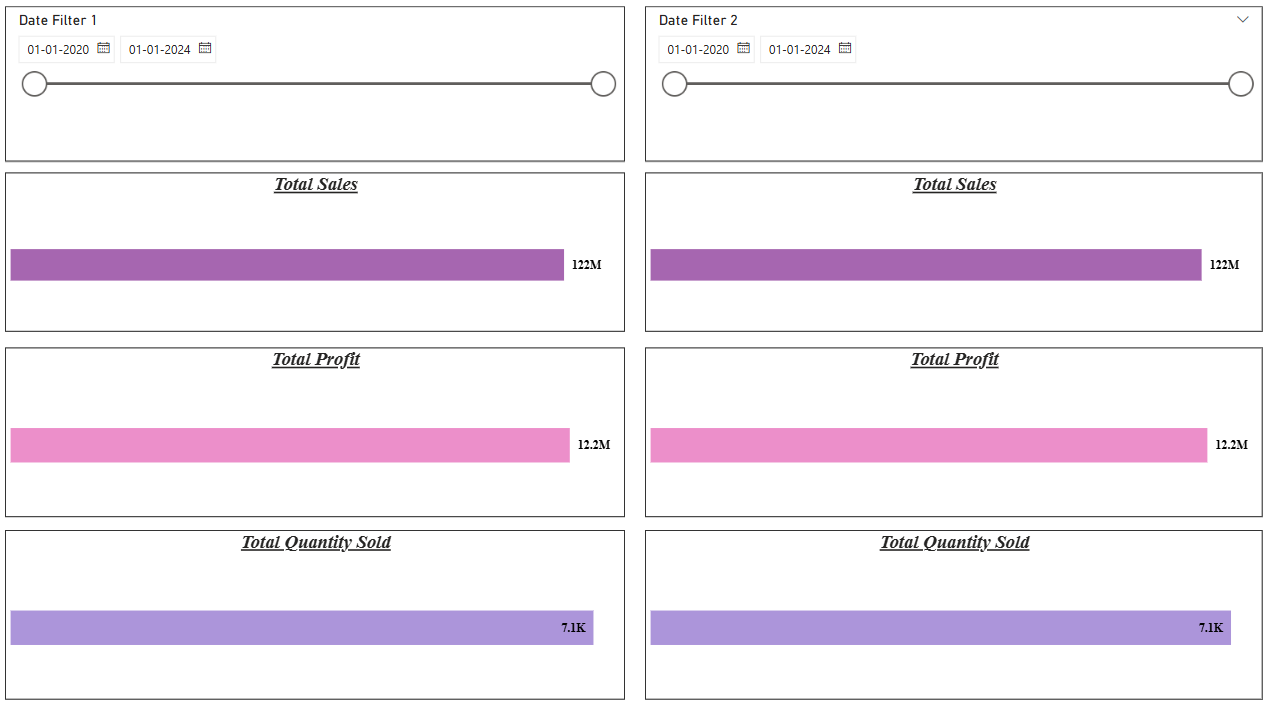

Layout of this report page (visuals, bound fields, positions):
{"tool":"powerbi","page":{"name":"Edit Interaction","canvas":[1280,720],"ordinal":3},"visuals":[{"type":"slicer","fields":{"Values":["Fact Table.Date (dd/mm/yyyy)"]},"box":[9.8,15.9,620,155.3],"z":0},{"type":"slicer","fields":{"Values":["Fact Table.Date (dd/mm/yyyy)"]},"box":[650.5,15.9,617.5,155.3],"z":1000},{"type":"barChart","title":"Total Sales","fields":{"Y":["Sum(Fact Table.Net Sales)"]},"box":[9.8,182.2,620,159],"z":2000},{"type":"barChart","title":"Total Profit","fields":{"Y":["Sum(Fact Table.Profit)"]},"box":[9.8,357.1,620,170],"z":3000},{"type":"barChart","title":"Total Quantity Sold","fields":{"Y":["Sum(Fact Table.Units Sold)"]},"box":[9.8,540.5,620,170],"z":4000},{"type":"barChart","title":"Total Sales","fields":{"Y":["Sum(Fact Table.Net Sales)"]},"box":[650.5,182.2,617.5,159],"z":5000},{"type":"barChart","title":"Total Profit","fields":{"Y":["Sum(Fact Table.Profit)"]},"box":[650.5,357.1,617.5,170],"z":6000},{"type":"barChart","title":"Total Quantity Sold","fields":{"Y":["Sum(Fact Table.Units Sold)"]},"box":[650.5,540.5,617.5,170],"z":7000}]}

Visuals, with their boxes in screenshot pixels (x1, y1, x2, y2), scaled from the page's 1280x720 canvas onto the 1267x706 screenshot:
slicer - Fact Table.Date (dd/mm/yyyy): 10,16,623,168
slicer - Fact Table.Date (dd/mm/yyyy): 644,16,1255,168
"Total Sales" barChart: 10,179,623,335
"Total Profit" barChart: 10,350,623,517
"Total Quantity Sold" barChart: 10,530,623,697
"Total Sales" barChart: 644,179,1255,335
"Total Profit" barChart: 644,350,1255,517
"Total Quantity Sold" barChart: 644,530,1255,697
